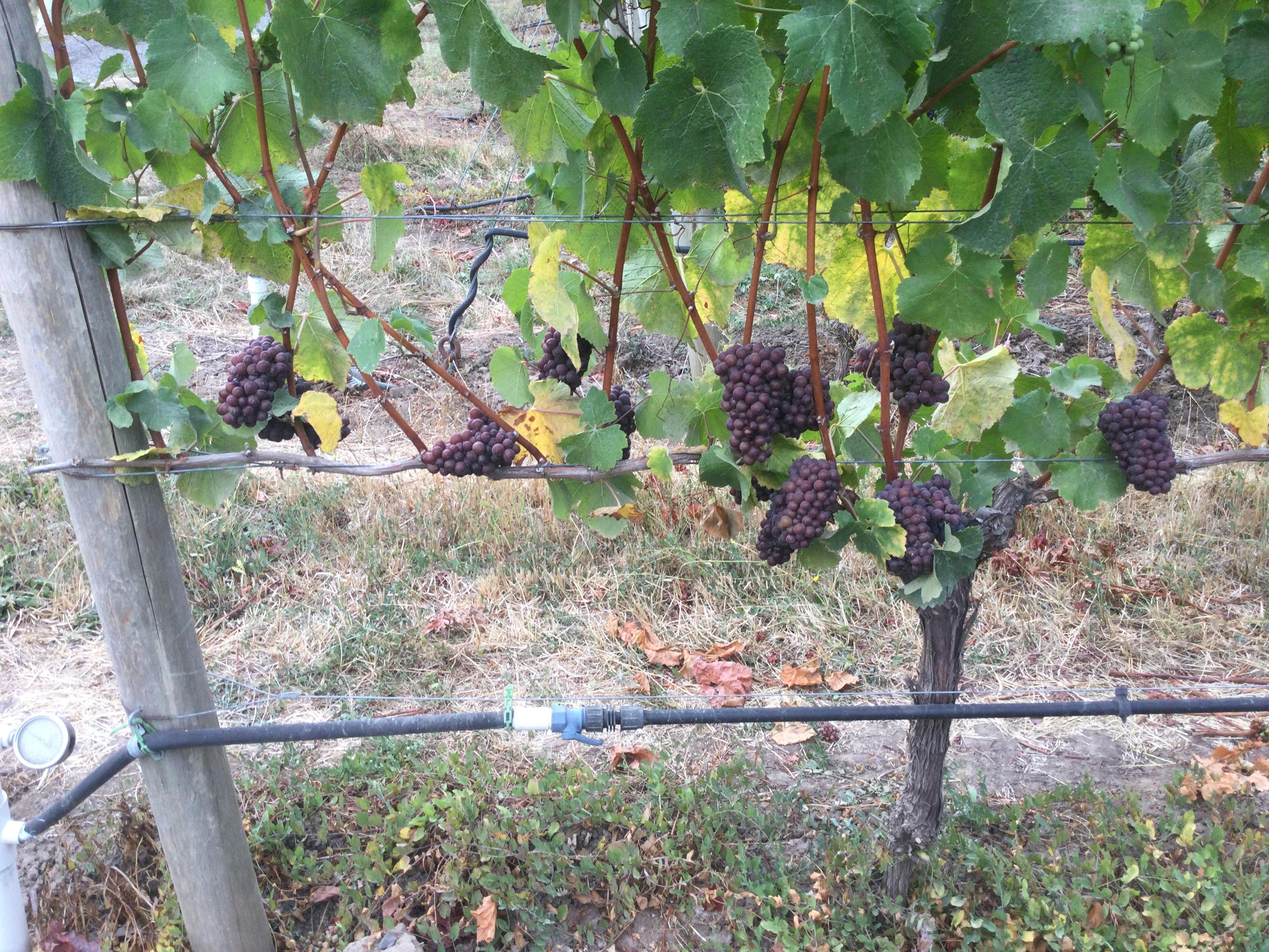leaf: (952, 49, 1097, 254), (633, 27, 773, 193), (781, 0, 930, 133), (952, 120, 1096, 254), (271, 0, 421, 123), (0, 62, 106, 206), (1105, 28, 1224, 154), (429, 0, 559, 109), (1144, 121, 1225, 267), (897, 233, 1003, 338), (975, 48, 1077, 153), (146, 14, 250, 115), (1082, 219, 1187, 317), (822, 110, 922, 203), (931, 338, 1019, 441), (1164, 312, 1268, 399), (502, 77, 593, 162), (1094, 140, 1172, 239), (926, 0, 1009, 92), (528, 229, 582, 368), (683, 223, 752, 327), (895, 526, 982, 608), (620, 244, 694, 338), (501, 379, 581, 462), (1210, 79, 1268, 186), (1050, 431, 1127, 510), (822, 228, 877, 338), (198, 221, 292, 283), (1009, 0, 1140, 44), (360, 163, 412, 270), (1089, 267, 1138, 379), (827, 498, 906, 567), (99, 0, 240, 38), (998, 389, 1070, 458), (1223, 19, 1268, 125), (656, 0, 741, 56), (293, 311, 351, 390), (635, 371, 699, 442), (592, 37, 646, 116), (764, 175, 808, 270), (132, 86, 190, 156), (906, 115, 950, 203), (217, 92, 261, 177), (261, 69, 297, 166), (1024, 236, 1070, 308), (698, 444, 752, 504), (292, 390, 342, 452), (559, 426, 628, 470), (947, 146, 994, 209), (101, 0, 180, 37), (725, 187, 766, 254), (830, 389, 880, 443), (876, 242, 907, 326), (489, 346, 531, 406), (1232, 224, 1268, 294), (1219, 399, 1268, 446), (1046, 358, 1102, 399), (347, 320, 386, 373), (544, 0, 587, 43), (248, 291, 294, 329), (1188, 262, 1224, 310), (815, 211, 844, 270), (578, 387, 617, 427), (817, 169, 853, 209), (797, 537, 839, 570), (937, 82, 977, 112), (168, 110, 189, 151), (432, 2, 443, 22), (142, 90, 154, 105), (218, 136, 224, 164), (1161, 156, 1171, 166), (363, 321, 377, 326), (250, 112, 254, 128), (594, 388, 602, 396), (255, 138, 258, 156), (1134, 227, 1140, 236), (94, 37, 104, 42), (295, 0, 305, 5), (108, 42, 122, 45), (955, 141, 961, 148), (638, 58, 642, 68), (1012, 154, 1017, 162), (138, 107, 141, 117), (297, 102, 301, 109), (767, 227, 772, 232), (239, 103, 244, 108), (498, 103, 507, 105), (279, 159, 288, 161), (146, 123, 149, 128), (176, 152, 183, 154), (673, 262, 676, 266), (170, 149, 175, 151), (416, 30, 417, 40), (149, 40, 153, 42), (256, 162, 257, 169), (295, 0, 302, 1), (163, 146, 168, 147), (146, 68, 147, 73), (442, 27, 443, 30), (921, 430, 924, 431), (820, 279, 822, 280), (524, 451, 526, 452), (85, 156, 86, 157), (85, 10, 86, 11), (200, 159, 201, 160), (963, 84, 970, 84)
